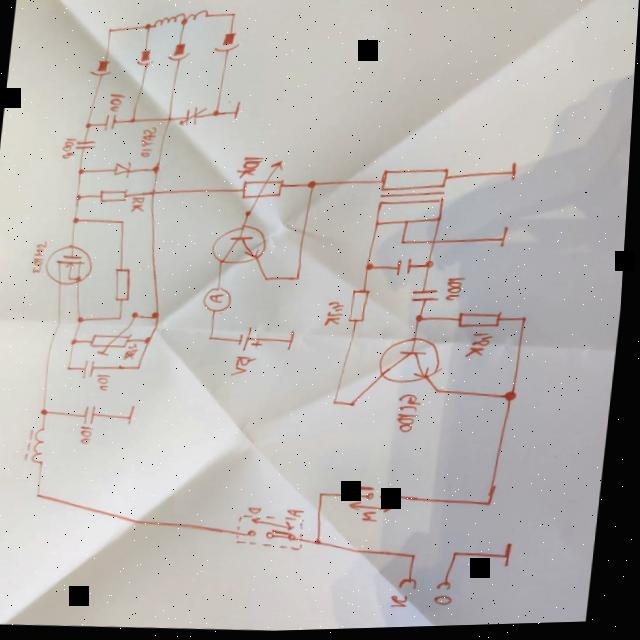capacitor: (179, 105, 209, 127), (412, 288, 444, 306), (397, 258, 417, 278), (85, 358, 101, 379), (102, 113, 120, 131), (86, 404, 102, 423), (76, 139, 99, 150)
crossover: (432, 240, 440, 247), (151, 189, 159, 195), (167, 115, 175, 121)
diode: (113, 160, 135, 178)
ground: (506, 543, 523, 570), (287, 330, 303, 352), (500, 227, 514, 250), (508, 163, 522, 184), (231, 99, 245, 120), (131, 405, 140, 425)
inductor: (28, 425, 58, 466), (151, 10, 187, 29), (184, 8, 210, 22)
junction: (507, 391, 523, 405), (151, 163, 163, 174), (307, 180, 320, 190), (416, 314, 429, 324), (425, 261, 438, 271), (366, 263, 379, 273), (488, 500, 501, 509), (142, 21, 153, 31), (146, 335, 156, 345), (76, 191, 86, 201), (44, 406, 54, 416), (84, 120, 95, 129), (212, 108, 223, 117), (153, 311, 164, 320), (228, 10, 238, 19), (78, 166, 88, 175), (73, 215, 83, 224), (79, 314, 89, 323), (73, 336, 83, 345), (40, 490, 50, 499), (456, 551, 467, 559), (295, 275, 306, 283), (322, 491, 332, 499), (319, 539, 329, 547), (351, 401, 361, 409), (414, 554, 424, 562), (180, 18, 188, 26), (106, 26, 114, 33), (69, 364, 77, 371), (120, 219, 129, 225), (129, 117, 137, 123), (523, 318, 531, 324), (210, 335, 218, 341), (138, 364, 146, 370), (335, 400, 343, 406), (119, 314, 127, 320), (401, 240, 409, 246), (265, 276, 273, 282), (438, 390, 446, 396)
resistor: (239, 158, 291, 219), (92, 309, 144, 358), (458, 311, 508, 332), (351, 289, 375, 325), (114, 267, 137, 302), (99, 187, 131, 203)
source: (241, 326, 269, 353)
switch: (239, 512, 313, 555), (349, 483, 405, 518)
terminal: (402, 577, 426, 593), (442, 582, 460, 593)
text: (398, 393, 428, 437), (468, 332, 498, 361), (235, 155, 265, 179), (233, 354, 261, 378), (32, 239, 51, 274), (139, 125, 159, 158), (446, 276, 468, 304), (327, 301, 349, 328), (395, 594, 418, 612), (108, 90, 126, 113), (81, 424, 99, 445), (61, 137, 77, 160), (100, 372, 116, 392), (130, 196, 148, 213), (439, 595, 461, 608), (127, 341, 142, 360), (366, 512, 383, 525), (292, 508, 310, 519), (251, 506, 268, 516)
transformer: (374, 168, 454, 236)
transistor: (382, 337, 450, 387), (211, 223, 273, 268), (46, 242, 98, 286)
